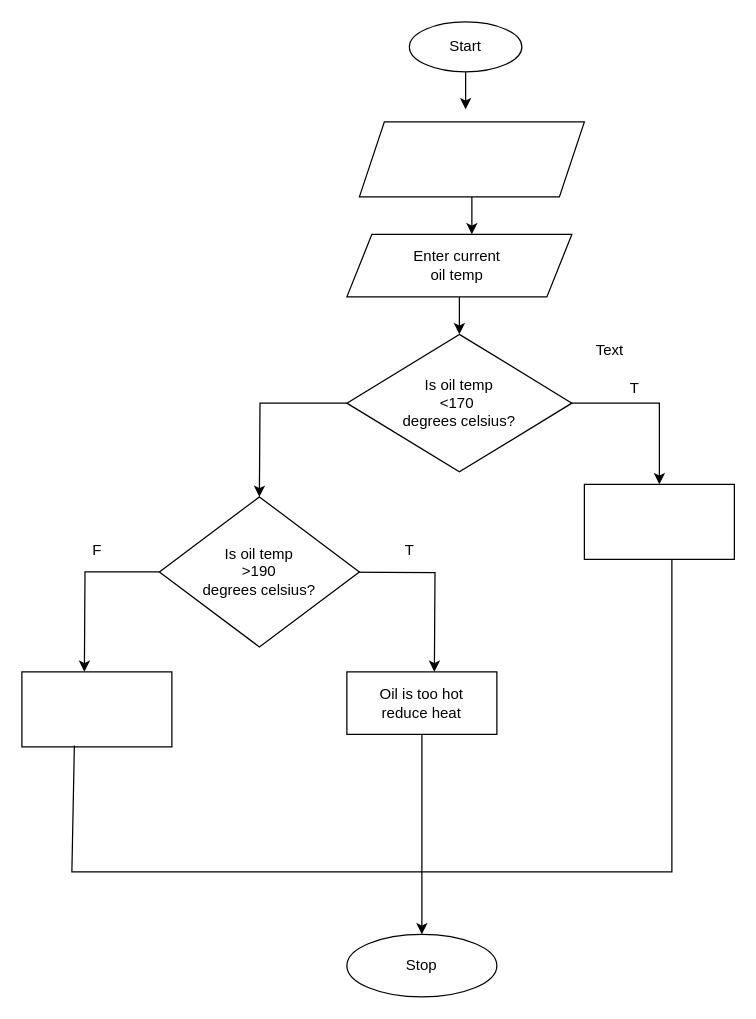
Image size: 756x1019. Some labels were removed from this diagram. The shapes that lost their labels are listed below. From the top down, each one's centre as x and y in pixels, then its label:
(x=471, y=159): Desplay" Enter current oil temp"
(x=658, y=521): Oil is too cold increase heat
(x=96, y=709): Oil temp is perfect
